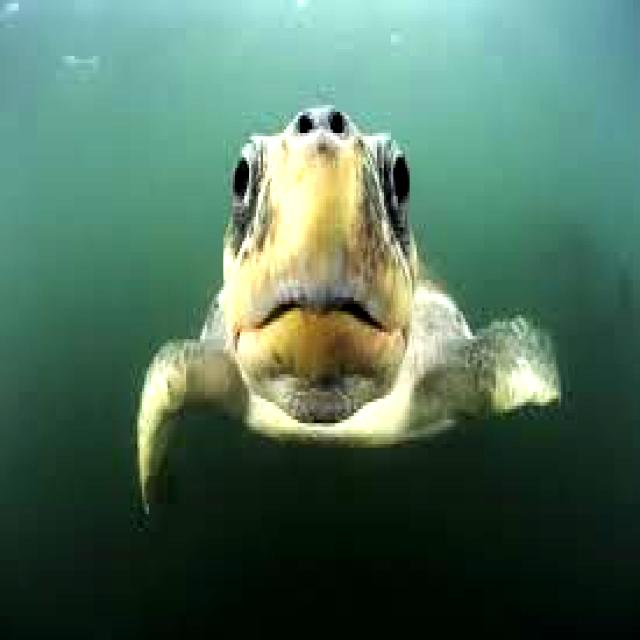Sea turtle: (80, 59, 566, 496)
